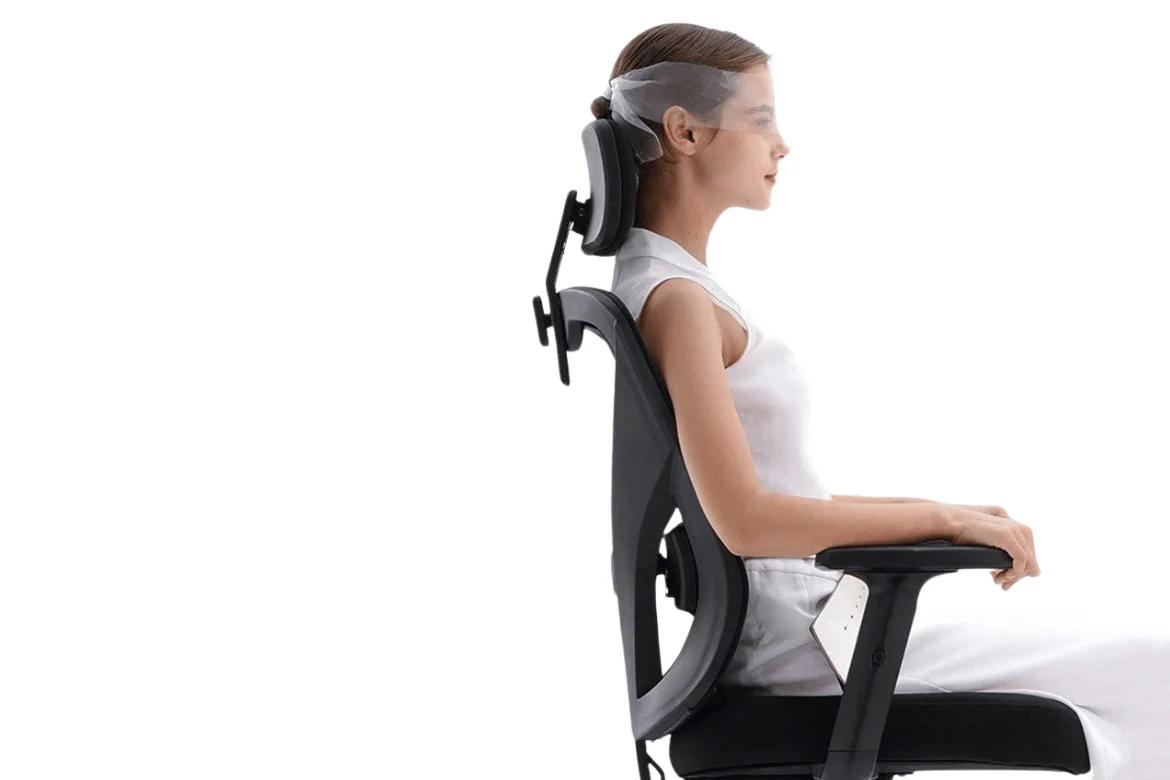Good Sitting Posture: (541, 20, 1123, 777)
